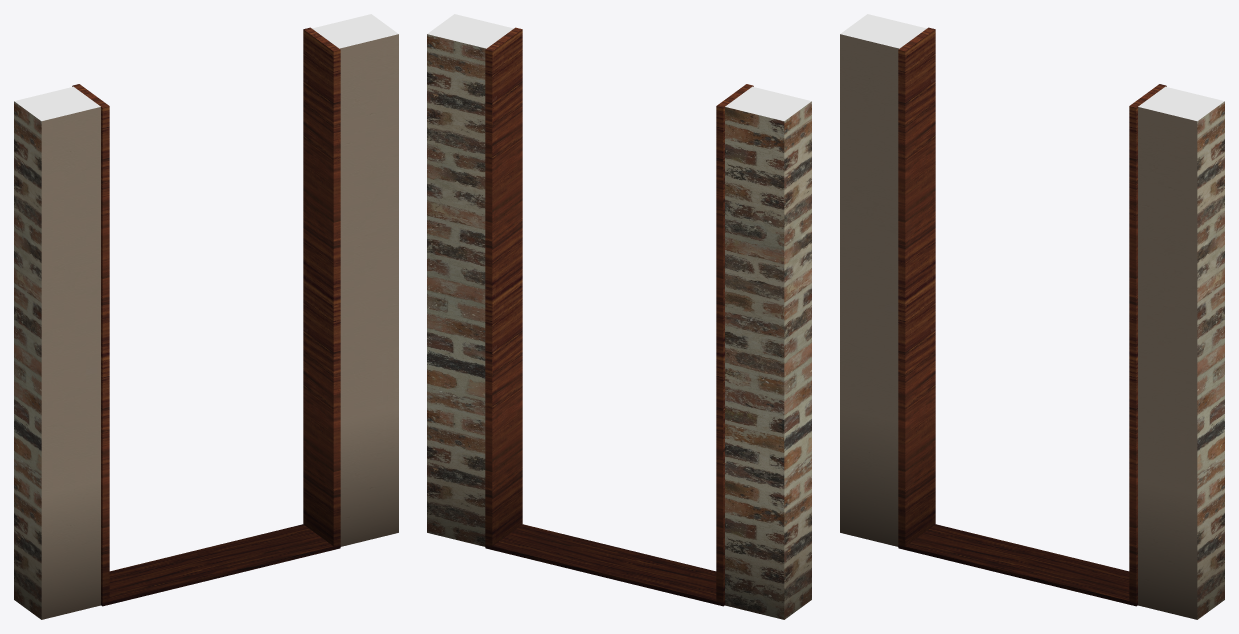
Rendered from door_straight.glb.
3 renders of one model, left to right at view 1: azimuth 30°, elevation 25°; view 2: azimuth 150°, elevation 25°; view 3: azimuth 330°, elevation 25°, orthographic.
Parts seen in each view (by area): view 1: door_straight-col; view 2: door_straight-col; view 3: door_straight-col.
Boxes of the visible parts, <box> form: door_straight-col: <box>14,14,398,619</box>; door_straight-col: <box>427,14,811,619</box>; door_straight-col: <box>840,14,1224,619</box>.
Bounding box in the file's own units: 1.5 × 2 × 0.22.
4 materials, 3 textured.
